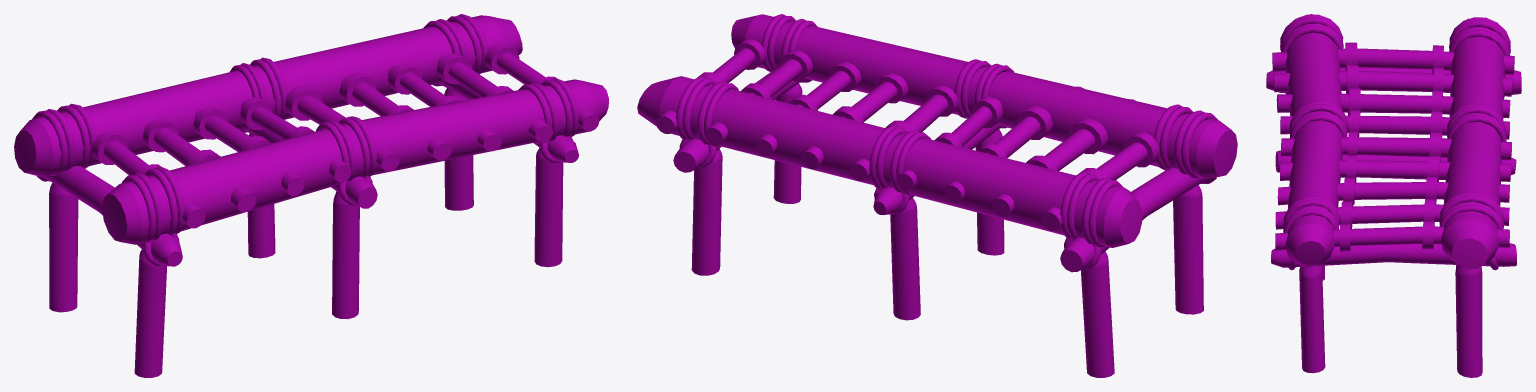
The model's file is Loading_Dock.fbx.
The picture shows the model from 3 angles, left to right: view 1: azimuth 30°, elevation 25°; view 2: azimuth 150°, elevation 25°; view 3: azimuth 270°, elevation 25°; orthographic projection. The views are drawn at different scales.
Visible parts, largest first — view 1: Loading_Dock; view 2: Loading_Dock; view 3: Loading_Dock.
Boxes of the visible parts, x1=… form: Loading_Dock: x1=14, y1=14, x2=608, y2=377; Loading_Dock: x1=637, y1=14, x2=1237, y2=377; Loading_Dock: x1=1266, y1=14, x2=1521, y2=377.
Size of the model in its own units: 18.18 by 7.02 by 8.89.
